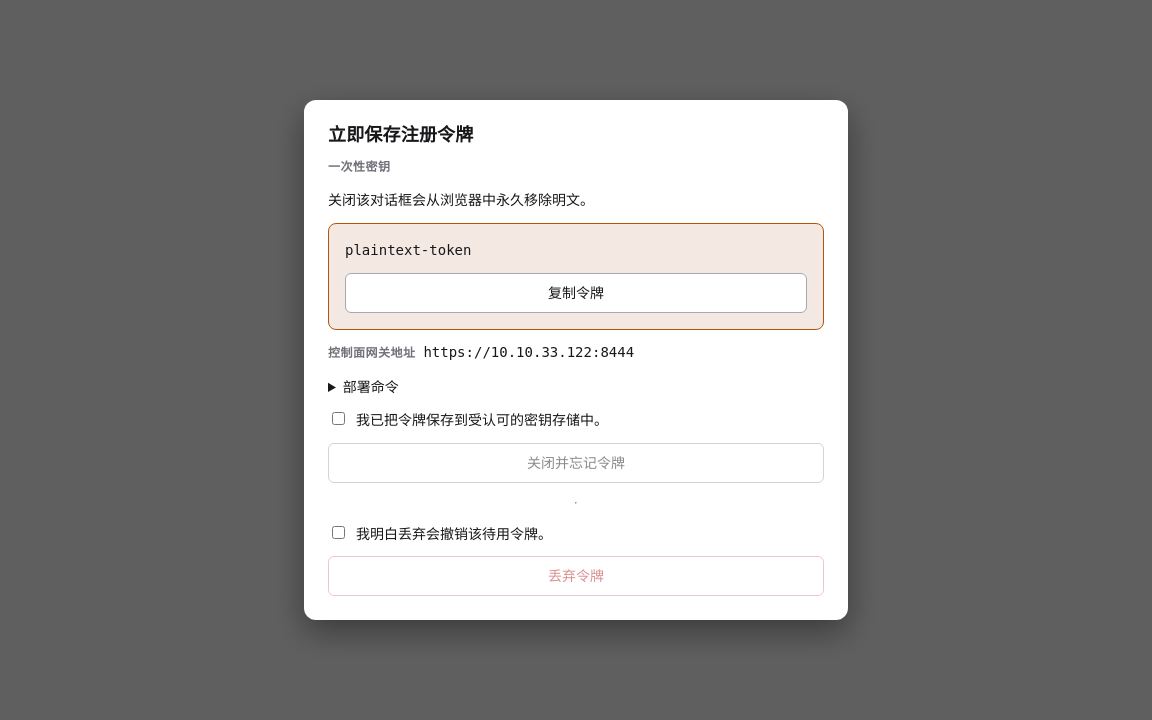
Scenario: EnrollmentTokenModal › keeps plaintext local to the modal and clears it after confirmed close
The width and height of the screenshot is (1152, 720).
Expected: the button "复制令牌" is shown, x1=345 y1=273 x2=807 y2=313
Expected: the button "关闭并忘记令牌" is disabled, x1=328 y1=443 x2=824 y2=483
What coordinates should you click on to do the following:
click the checkbox labelled "我已把令牌保存到受认可的密钥存储中。"
I would click on:
 (338, 419)
Its box is x1=332 y1=412 x2=345 y2=425.
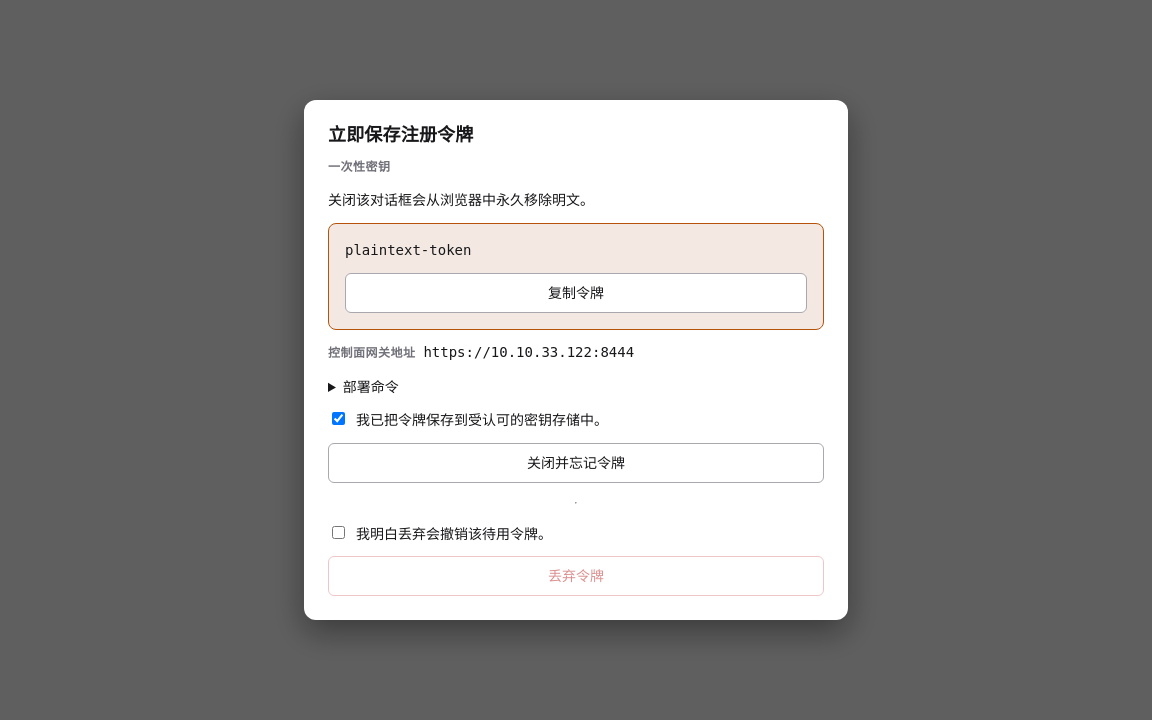
Result: the button "关闭并忘记令牌" is enabled
What coordinates should you click on to do the following:
click the button "关闭并忘记令牌"
I would click on:
 (576, 463)
Its box is x1=328 y1=443 x2=824 y2=483.
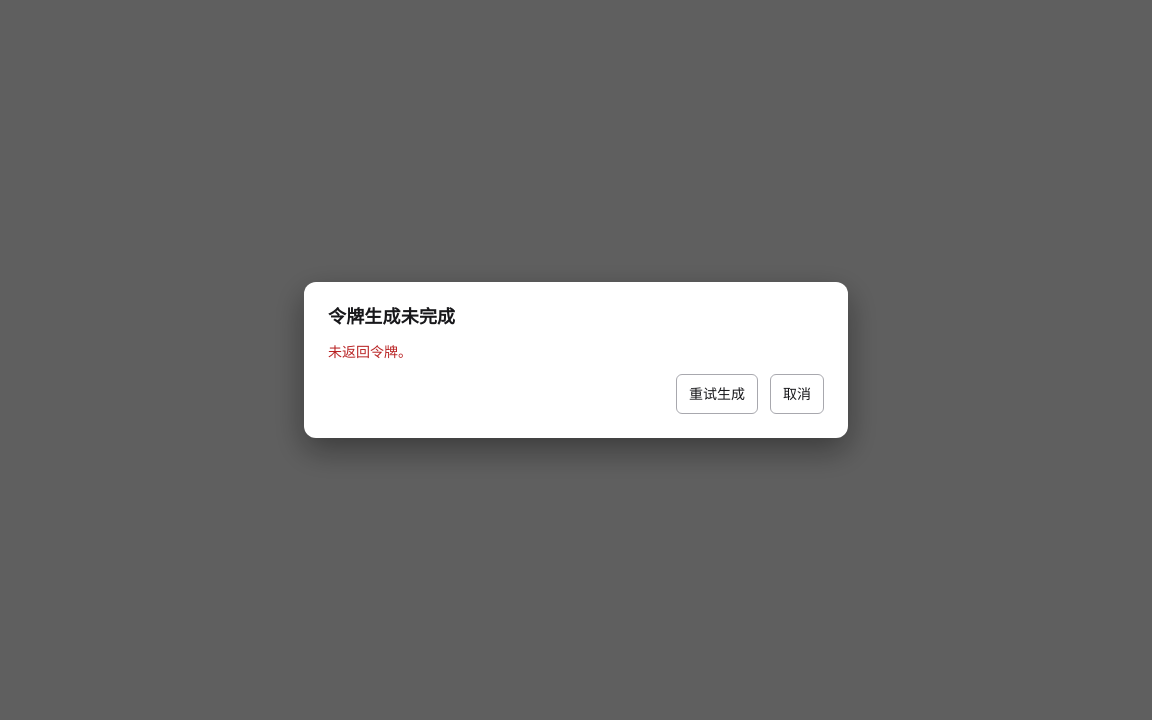
Result: the text "plaintext-token" is gone
